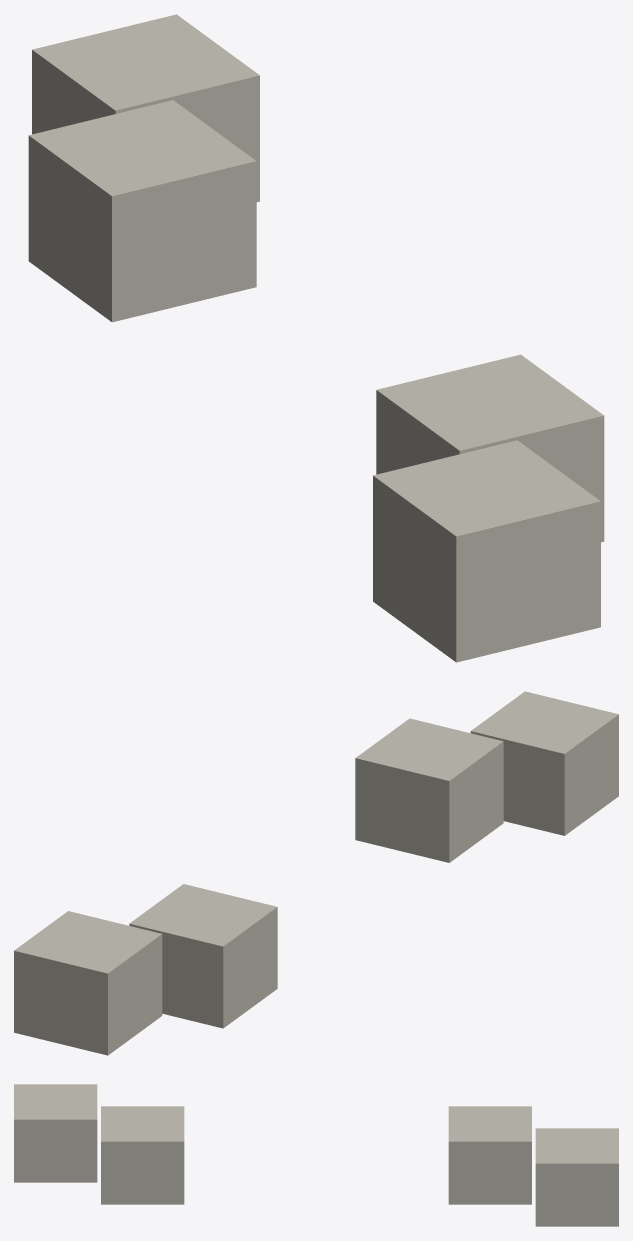
The model's file is fx_dust.glb.
3 views of the same model, one above another, from view 1: azimuth 30°, elevation 25°; view 2: azimuth 150°, elevation 25°; view 3: azimuth 270°, elevation 25° (orthographic). The views are drawn at different scales.
Visible parts, largest first — view 1: fx_dust; view 2: fx_dust; view 3: fx_dust.
Boxes of the visible parts, left/top/right/bottom form: fx_dust: left=28, top=14, right=604, bottom=662; fx_dust: left=14, top=691, right=618, bottom=1055; fx_dust: left=14, top=1084, right=618, bottom=1226.
Bounding box in the file's own units: 0.27 × 0.1 × 0.87.
Materials: 1 (1 with a texture image).
